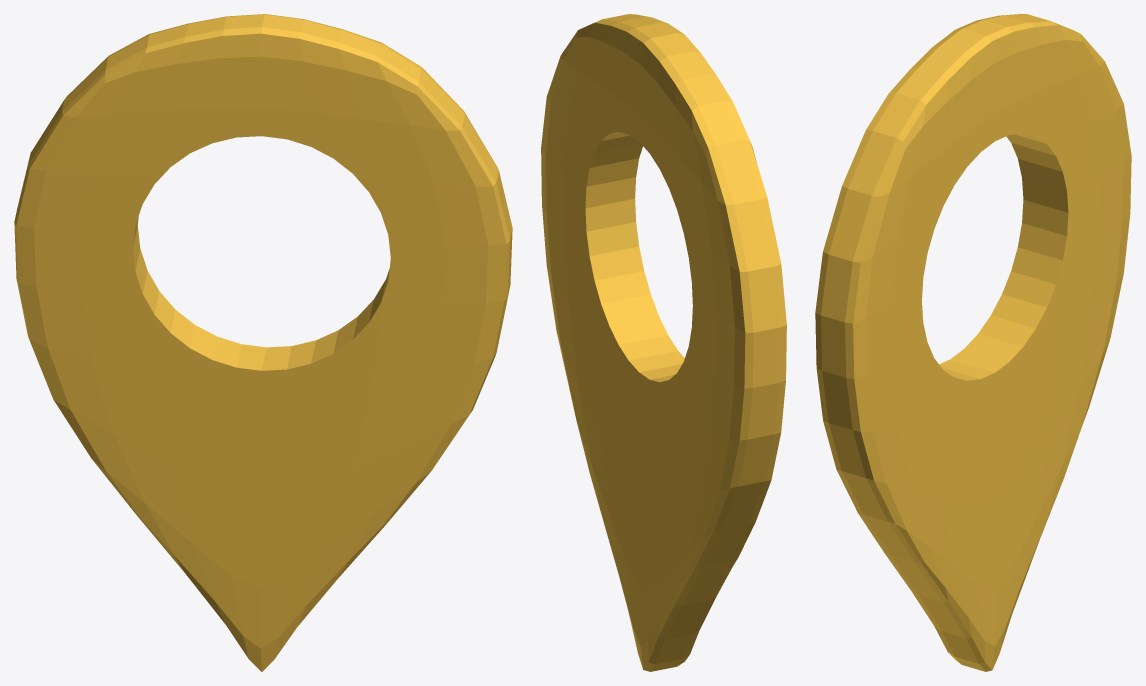
Rendered from MarcadoMicrocentro-OLD.gltf.
3 views of the same model, side by side, from view 1: azimuth 30°, elevation 25°; view 2: azimuth 150°, elevation 25°; view 3: azimuth 270°, elevation 25° (orthographic).
Visible parts, largest first — view 1: MarcadoMicrocentro; view 2: MarcadoMicrocentro; view 3: MarcadoMicrocentro.
Part boxes in pixels (<box>): MarcadoMicrocentro: <box>14,14,512,671</box>; MarcadoMicrocentro: <box>541,14,786,671</box>; MarcadoMicrocentro: <box>815,14,1131,671</box>.
Bounding box in the file's own units: 0.4299 × 0.7114 × 0.3207.
